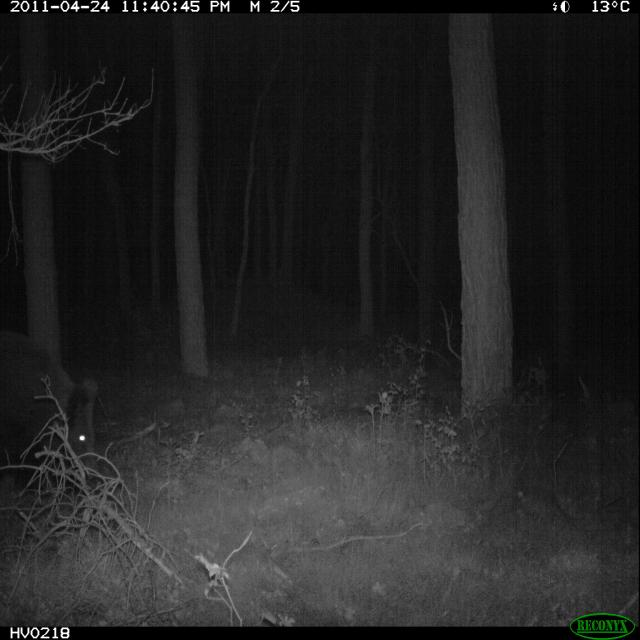boar: (0, 293, 121, 560)
